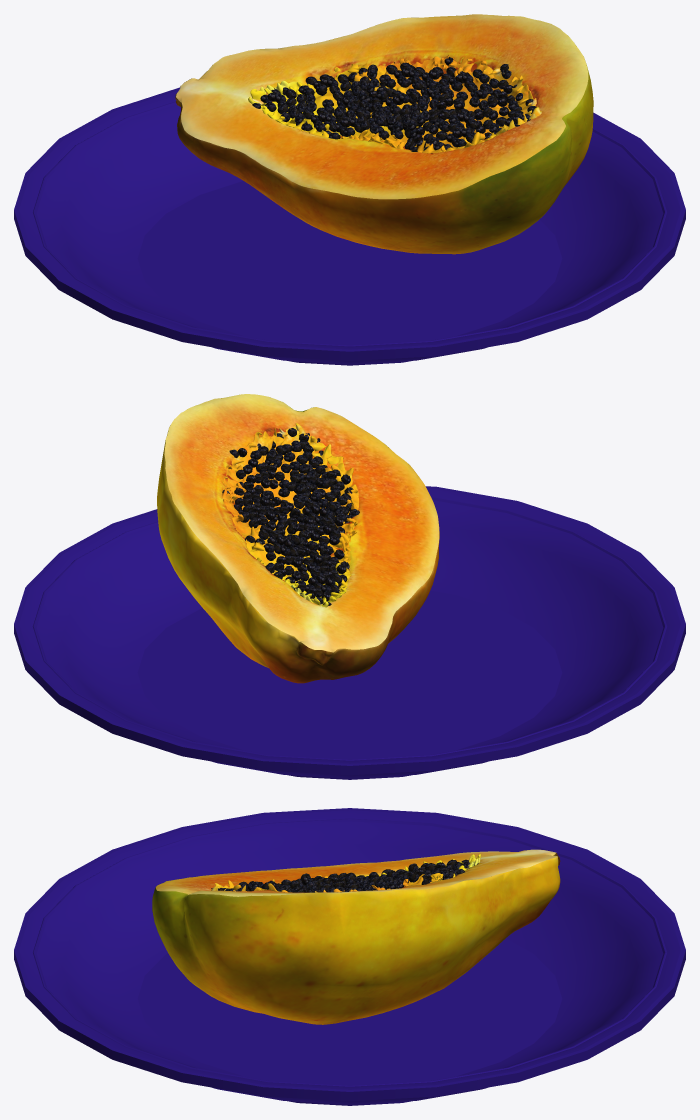
The model's file is Pepaya.fbx.
3 views of the same model, one above another, from view 1: azimuth 30°, elevation 25°; view 2: azimuth 150°, elevation 25°; view 3: azimuth 270°, elevation 25° (orthographic).
Parts seen in each view (by area): view 1: piring, pepaya; view 2: piring, pepaya; view 3: piring, pepaya.
Part boxes in pixels (x1,y1,x2,y2): piring: (14, 87, 685, 365); pepaya: (175, 14, 593, 254); piring: (14, 486, 685, 779); pepaya: (157, 394, 439, 683); piring: (14, 808, 685, 1105); pepaya: (152, 849, 560, 1024).
Bounding box in the file's own units: 9706 × 3513 × 9706.
